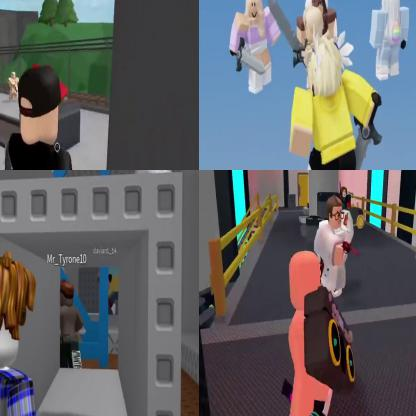Roblox-Avatar: (290, 18, 384, 170), (282, 250, 356, 416), (1, 252, 67, 416), (1, 63, 92, 170), (230, 1, 283, 96), (370, 1, 411, 83), (61, 280, 85, 369)
